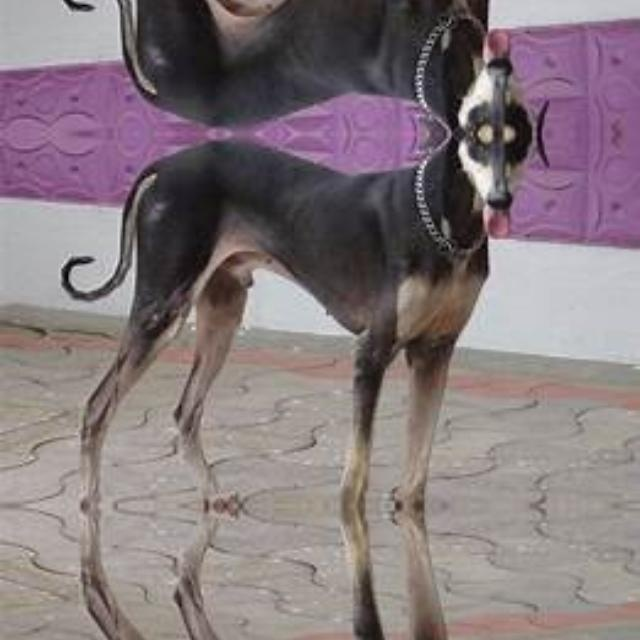dog: (65, 134, 545, 494), (64, 0, 545, 132), (64, 518, 545, 640)
